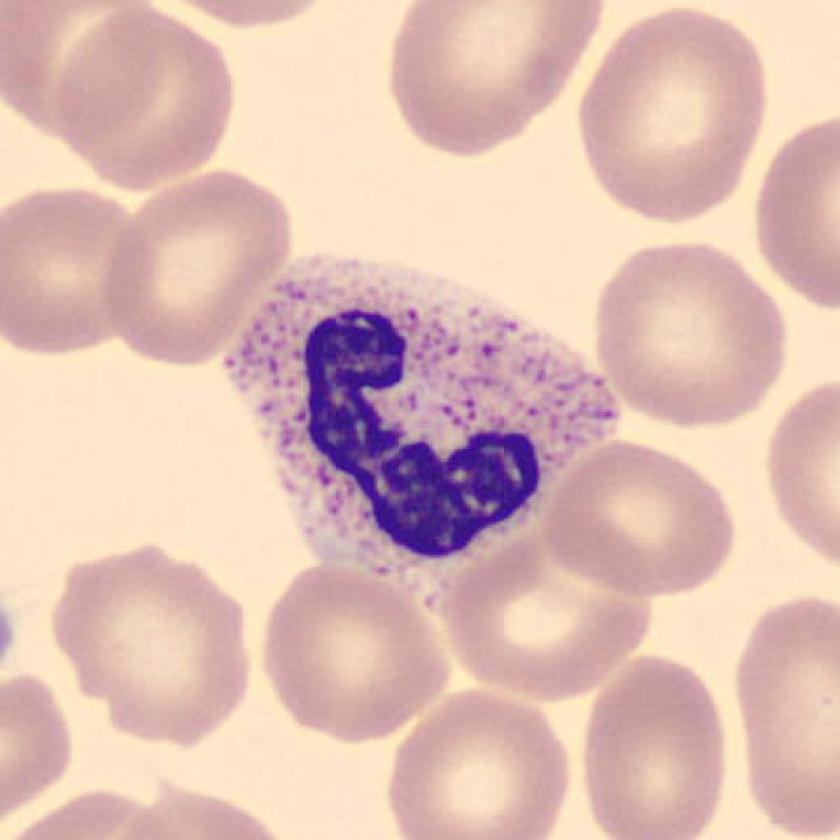neutrophil: (224, 250, 623, 606)
